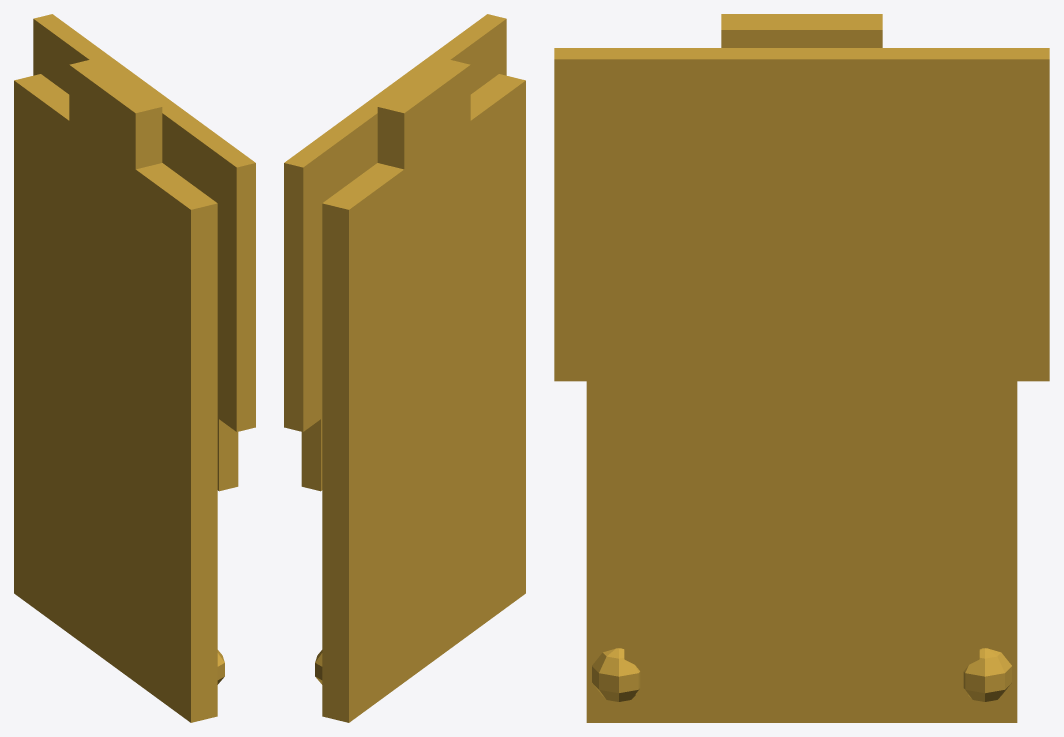
Rendered from aldrich_veiled_mirror.obj.
3 renders of one model, left to right at view 1: azimuth 30°, elevation 25°; view 2: azimuth 150°, elevation 25°; view 3: azimuth 270°, elevation 25°, orthographic. The views are drawn at different scales.
Visible parts, largest first — view 1: aldrich_veiled_mirror; view 2: aldrich_veiled_mirror; view 3: aldrich_veiled_mirror.
Boxes of the visible parts, bbox=[...] form: aldrich_veiled_mirror: bbox=[14, 14, 255, 722]; aldrich_veiled_mirror: bbox=[284, 14, 525, 722]; aldrich_veiled_mirror: bbox=[554, 14, 1049, 722].
Size of the model in its own units: 0.135 by 1.42 by 0.92.
